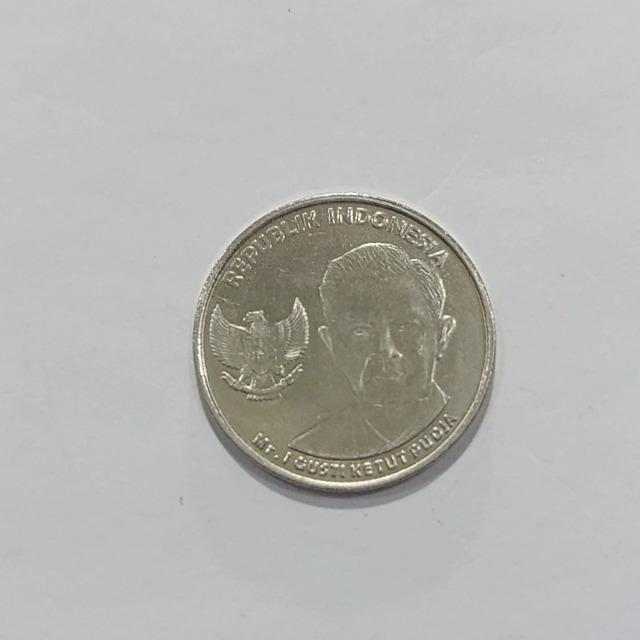Rp100: (191, 191, 497, 496), (205, 293, 310, 401)
